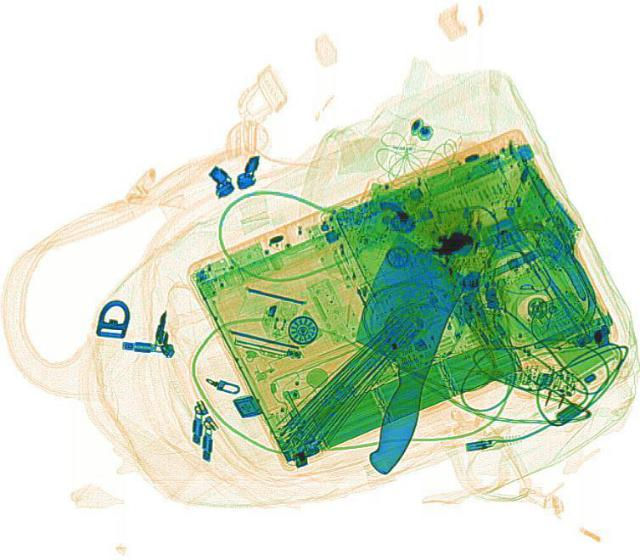Knife: (306, 229, 480, 475)
